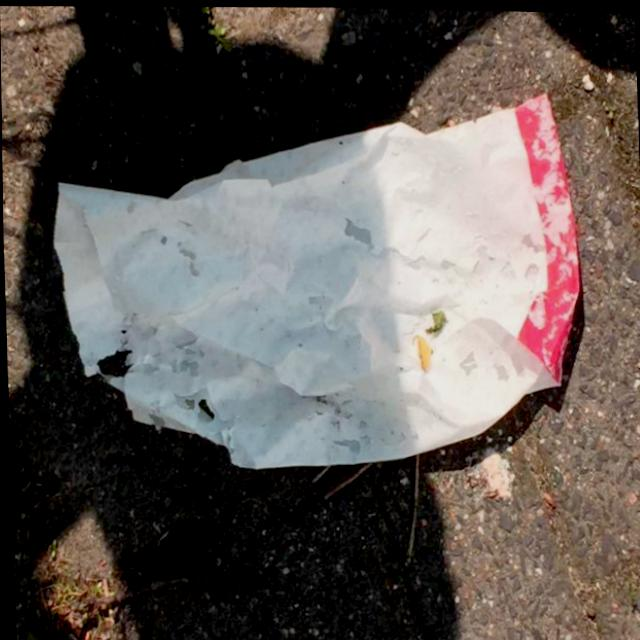Paper: (40, 78, 587, 482)
